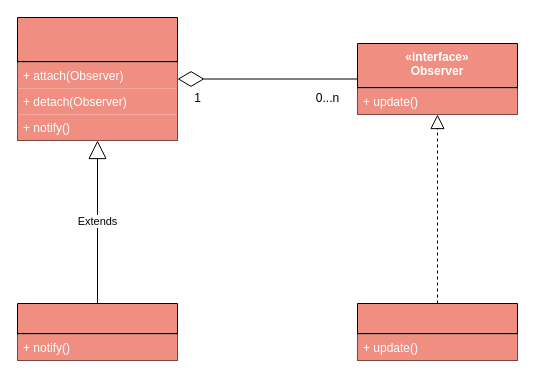
This 535x381 diagram has some shape labels left out. Here are the shapes that lost their labels. From the top down, the box of each, then its label:
(16, 16, 178, 140): «abstract» Subject
(16, 302, 178, 360): ConcreteSubject
(356, 302, 518, 360): ConcreteObserver
